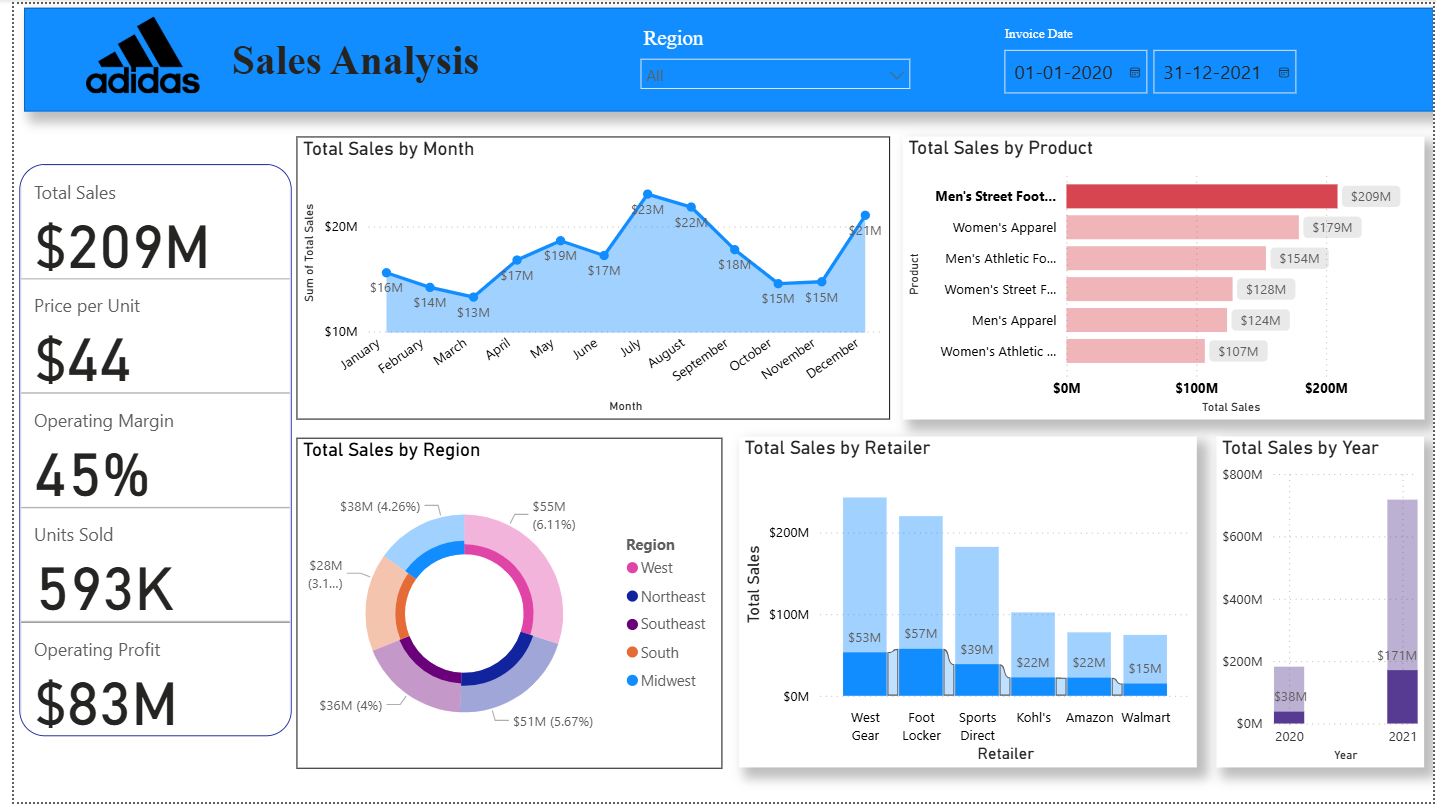

What the dashboard file says about the page in this screenshot:
{"tool":"powerbi","page":{"name":"Page 1","canvas":[1280,720],"ordinal":0},"visuals":[{"type":"shape","box":[8.8,3.8,1271.2,93.8],"z":0},{"type":"textbox","box":[191.6,23.6,347.1,54.7],"z":1000},{"type":"cardVisual","fields":{"Data":["Sum(Data Sales Adidas.Total Sales)","Avg(Data Sales Adidas.Price per Unit)","Avg(Data Sales Adidas.Operating Margin)","Sum(Data Sales Adidas.Units Sold)","Sum(Data Sales Adidas.Operating Profit)"]},"box":[0,119.4,255,569.7],"z":2000},{"type":"donutChart","title":"Total Sales by Region","fields":{"Category":["Data Sales Adidas.Region"],"Y":["Sum(Data Sales Adidas.Total Sales)"]},"box":[255,390.6,384.4,298.6],"z":3000},{"type":"stackedAreaChart","title":"Total Sales by Month","fields":{"Category":["Data Sales Adidas.Invoice Date.Variation.Date Hierarchy.Month"],"Y":["Sum(Data Sales Adidas.Total Sales)"]},"box":[255,120,535,255],"z":4000},{"type":"barChart","title":"Total Sales by Product","fields":{"Y":["Sum(Data Sales Adidas.Total Sales)"],"Category":["Data Sales Adidas.Product"]},"box":[801.2,120,470,255],"z":5000},{"type":"columnChart","title":"Total Sales by Retailer","fields":{"Y":["Sum(Data Sales Adidas.Total Sales)"],"Category":["Data Sales Adidas.Retailer"]},"box":[653.8,390,412.5,298.8],"z":6000},{"type":"columnChart","fields":{"Category":["Data Sales Adidas.Invoice Date.Variation.Date Hierarchy.Year"],"Y":["Sum(Data Sales Adidas.Total Sales)"]},"box":[1083.8,390,187.5,298.8],"z":7000},{"type":"slicer","fields":{"Values":["Data Sales Adidas.Region"]},"box":[555,16.2,263.8,68.8],"z":7001},{"type":"slicer","fields":{"Values":["Data Sales Adidas.Invoice Date"]},"box":[880,16.2,350,71.2],"z":7002},{"type":"image","box":[53.5,6.2,126.9,78.4],"z":7003}]}

Visuals, with their boxes in screenshot pixels (x1, y1, x2, y2), scaled from the page's 1280x720 canvas onto the 1436x807 screenshot:
shape: region(10, 4, 1435, 109)
textbox: region(215, 26, 604, 88)
cardVisual - Sum(Data Sales Adidas.Total Sales) x Avg(Data Sales Adidas.Price per Unit): region(0, 134, 286, 772)
"Total Sales by Region" donutChart: region(286, 438, 717, 772)
"Total Sales by Month" stackedAreaChart: region(286, 134, 886, 420)
"Total Sales by Product" barChart: region(899, 134, 1426, 420)
"Total Sales by Retailer" columnChart: region(733, 437, 1196, 772)
columnChart - Data Sales Adidas.Invoice Date.Variation.Date Hierarchy.Year x Sum(Data Sales Adidas.Total Sales): region(1216, 437, 1426, 772)
slicer - Data Sales Adidas.Region: region(623, 18, 919, 95)
slicer - Data Sales Adidas.Invoice Date: region(987, 18, 1380, 98)
image: region(60, 7, 202, 95)
